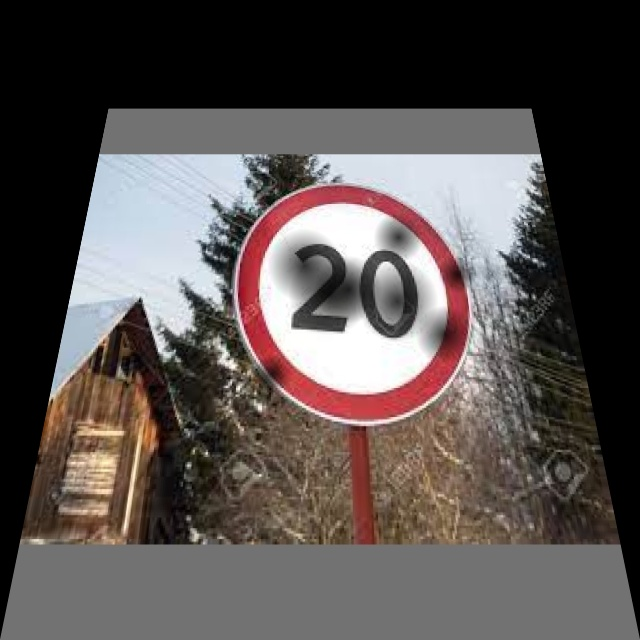Speed_Limit_20: (226, 183, 485, 420)
